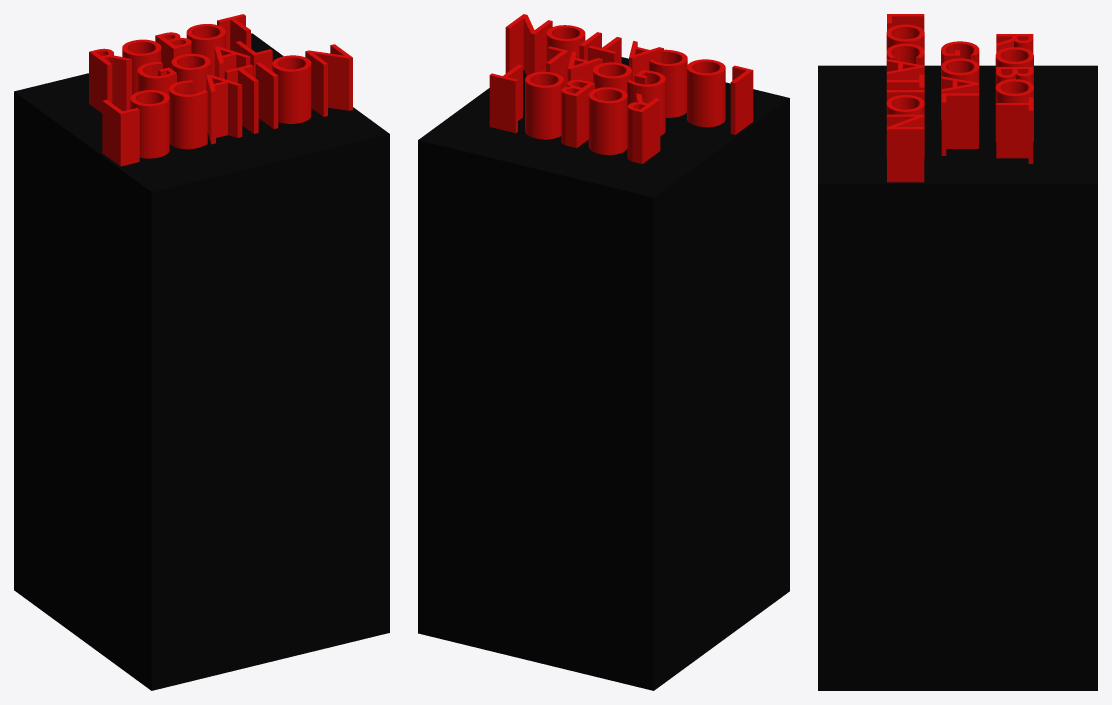
File: goal_pillar.dae
The picture shows the model from 3 angles, left to right: view 1: azimuth 30°, elevation 25°; view 2: azimuth 150°, elevation 25°; view 3: azimuth 270°, elevation 25°; orthographic projection. The views are drawn at different scales.
Parts seen in each view (by area): view 1: Cube, Text; view 2: Cube, Text; view 3: Cube, Text.
Part boxes in pixels (x1,y1,x2,y2): Cube: (14, 33, 389, 690); Text: (89, 14, 352, 166); Cube: (418, 57, 789, 690); Text: (489, 14, 753, 163); Cube: (818, 65, 1097, 690); Text: (886, 14, 1033, 182).
Size of the model in its own units: 1 by 1 by 2.21.
